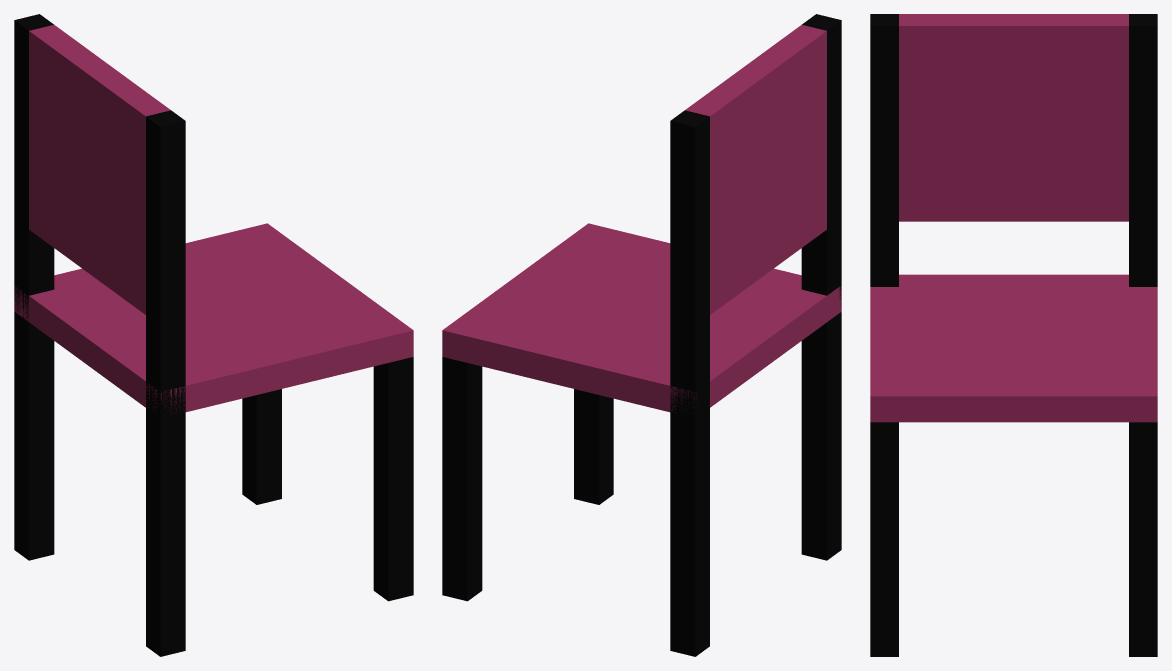
The model's file is Chair.obj.
The picture shows the model from 3 angles, left to right: view 1: azimuth 30°, elevation 25°; view 2: azimuth 150°, elevation 25°; view 3: azimuth 270°, elevation 25°; orthographic projection.
Size of the model in its own units: 1 by 2 by 1.
